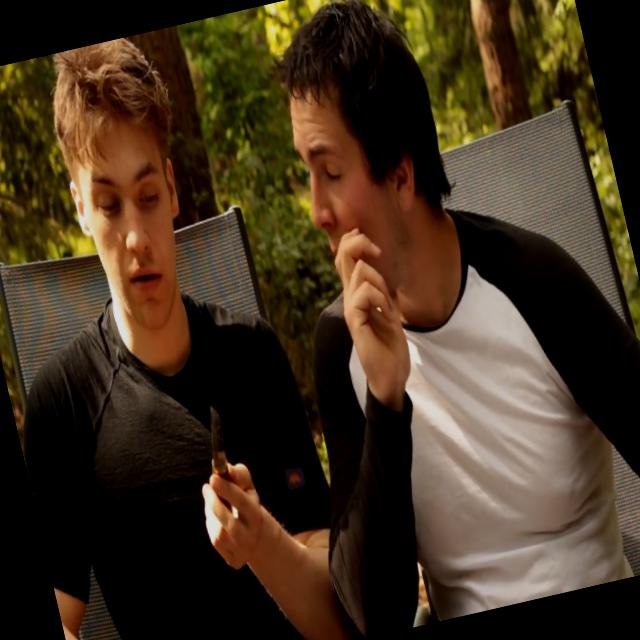knife: (166, 374, 272, 555)
